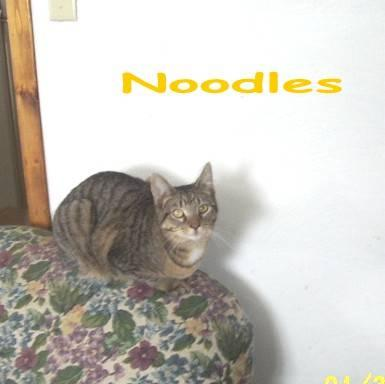cat: (53, 163, 217, 289)
